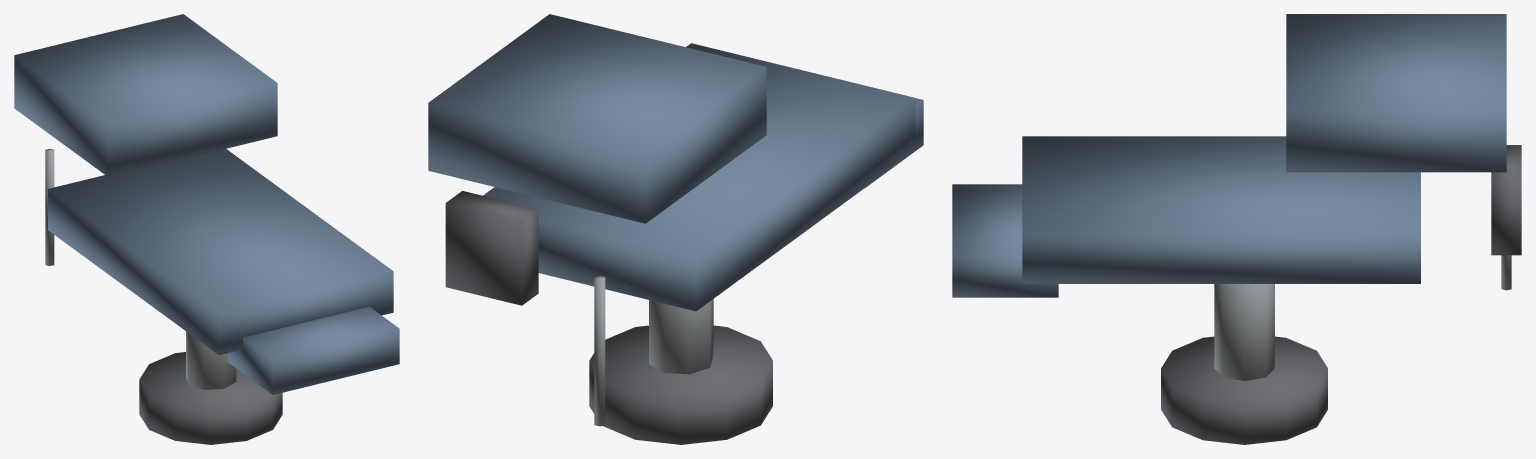
Rendered from dentist_chair__service.glb.
3 views of the same model, side by side, from view 1: azimuth 30°, elevation 25°; view 2: azimuth 150°, elevation 25°; view 3: azimuth 270°, elevation 25° (orthographic). The views are drawn at different scales.
Parts seen in each view (by area): view 1: world; view 2: world; view 3: world.
Boxes of the visible parts, x1,y1,x2,y2 form: world: [14, 14, 399, 444]; world: [428, 14, 923, 444]; world: [952, 14, 1521, 444].
Bounding box in the file's own units: 0.62 × 1.01 × 1.5.
